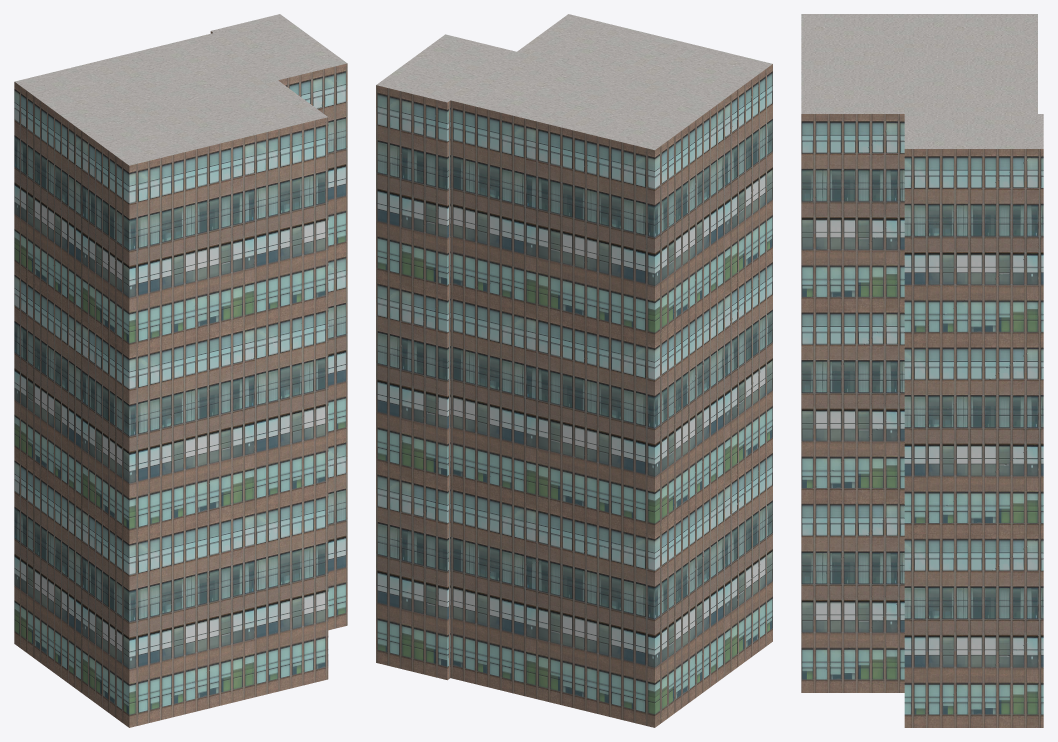
Rendered from building_039.fbx.
The picture shows the model from 3 angles, left to right: view 1: azimuth 30°, elevation 25°; view 2: azimuth 150°, elevation 25°; view 3: azimuth 270°, elevation 25°; orthographic projection. The views are drawn at different scales.
Parts seen in each view (by area): view 1: building_039; view 2: building_039; view 3: building_039.
Part boxes in pixels (x1,y1,x2,y2): building_039: (14, 14, 347, 727); building_039: (376, 14, 772, 727); building_039: (801, 14, 1043, 727).
Size of the model in its own units: 1349 by 2700 by 1025.
